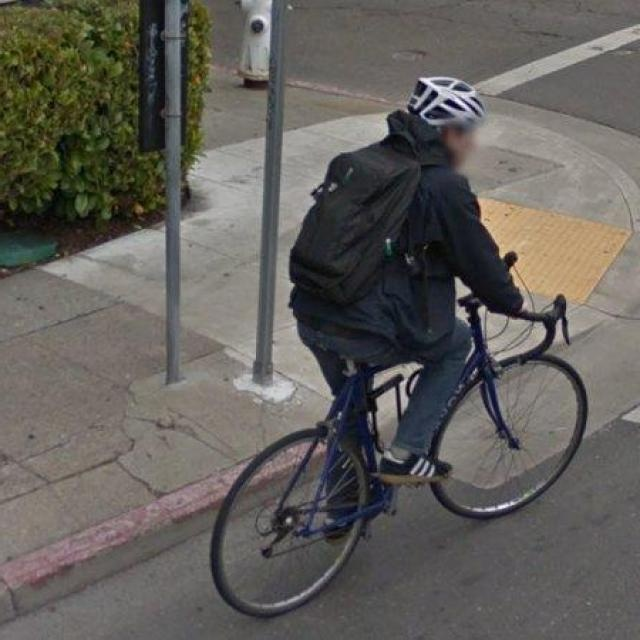bicycle: (155, 242, 606, 640)
